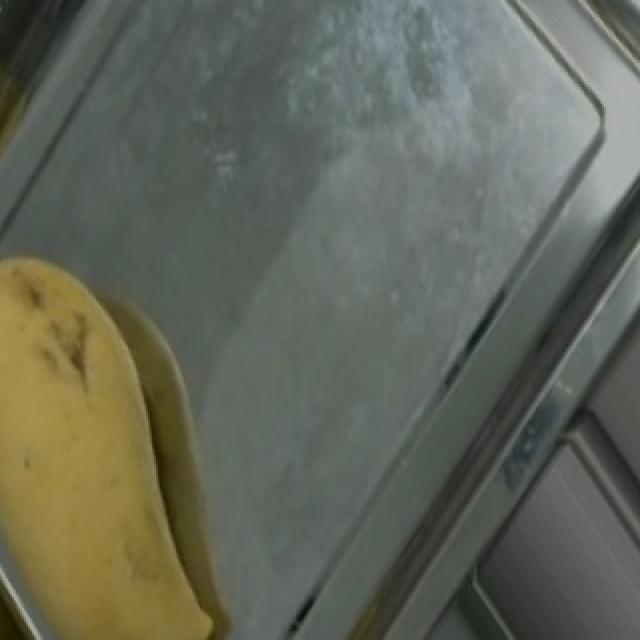fruit: (0, 208, 246, 593)
